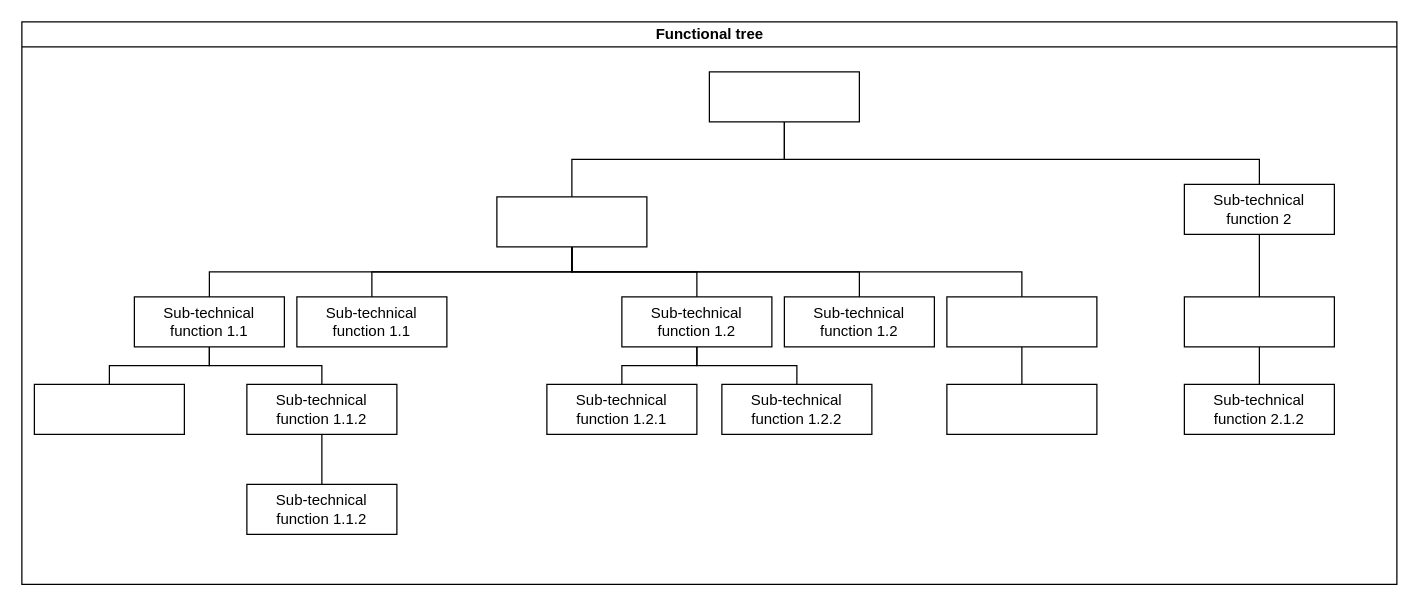
The diagram is 1419 pixels wide and 606 high, and some of its shapes have lost their labels. The shapes that lost their labels are listed below. From the top down, each one's centre as x and y in pixels, then its label:
the point at 783,96: Preserve the cold food
the point at 571,221: Sub-technical function 1
the point at 1021,321: Sub-technical function 1.3
the point at 1258,321: Sub-technical function 2.2
the point at 108,408: Sub-technical function 1.1.1
the point at 1021,408: Sub-technical function 1.3.1
